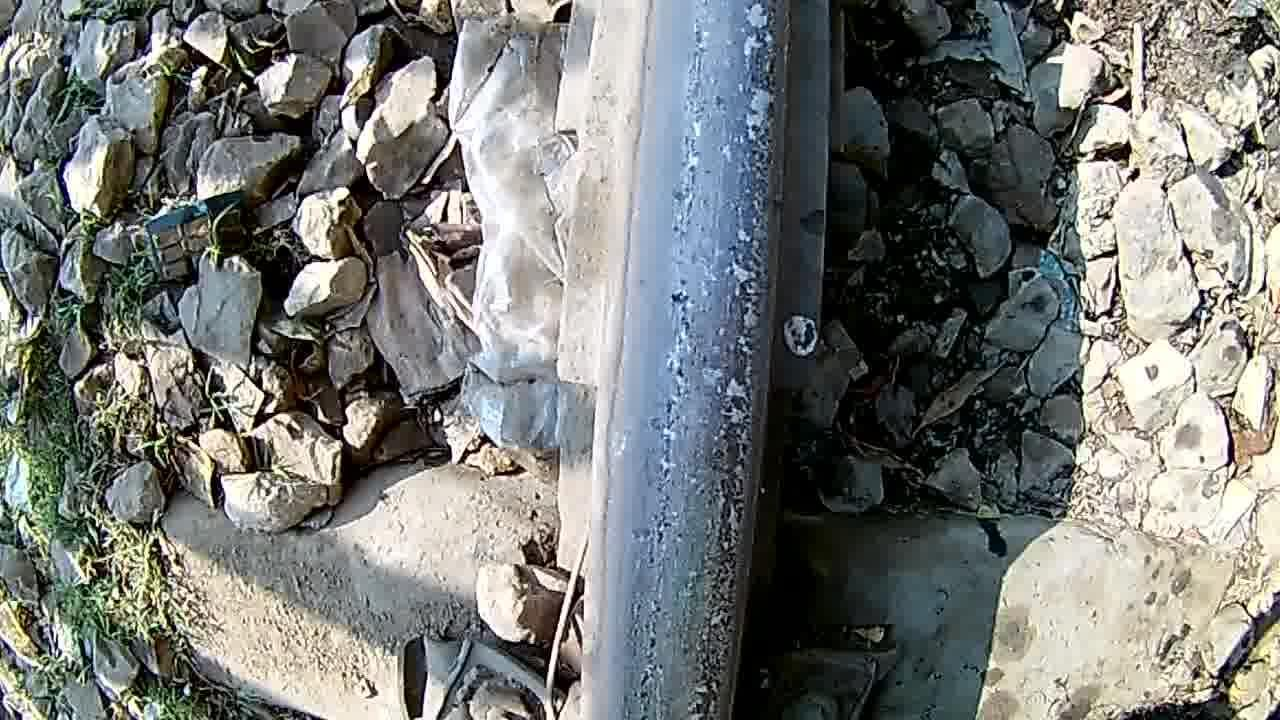crack: (588, 0, 807, 720)
